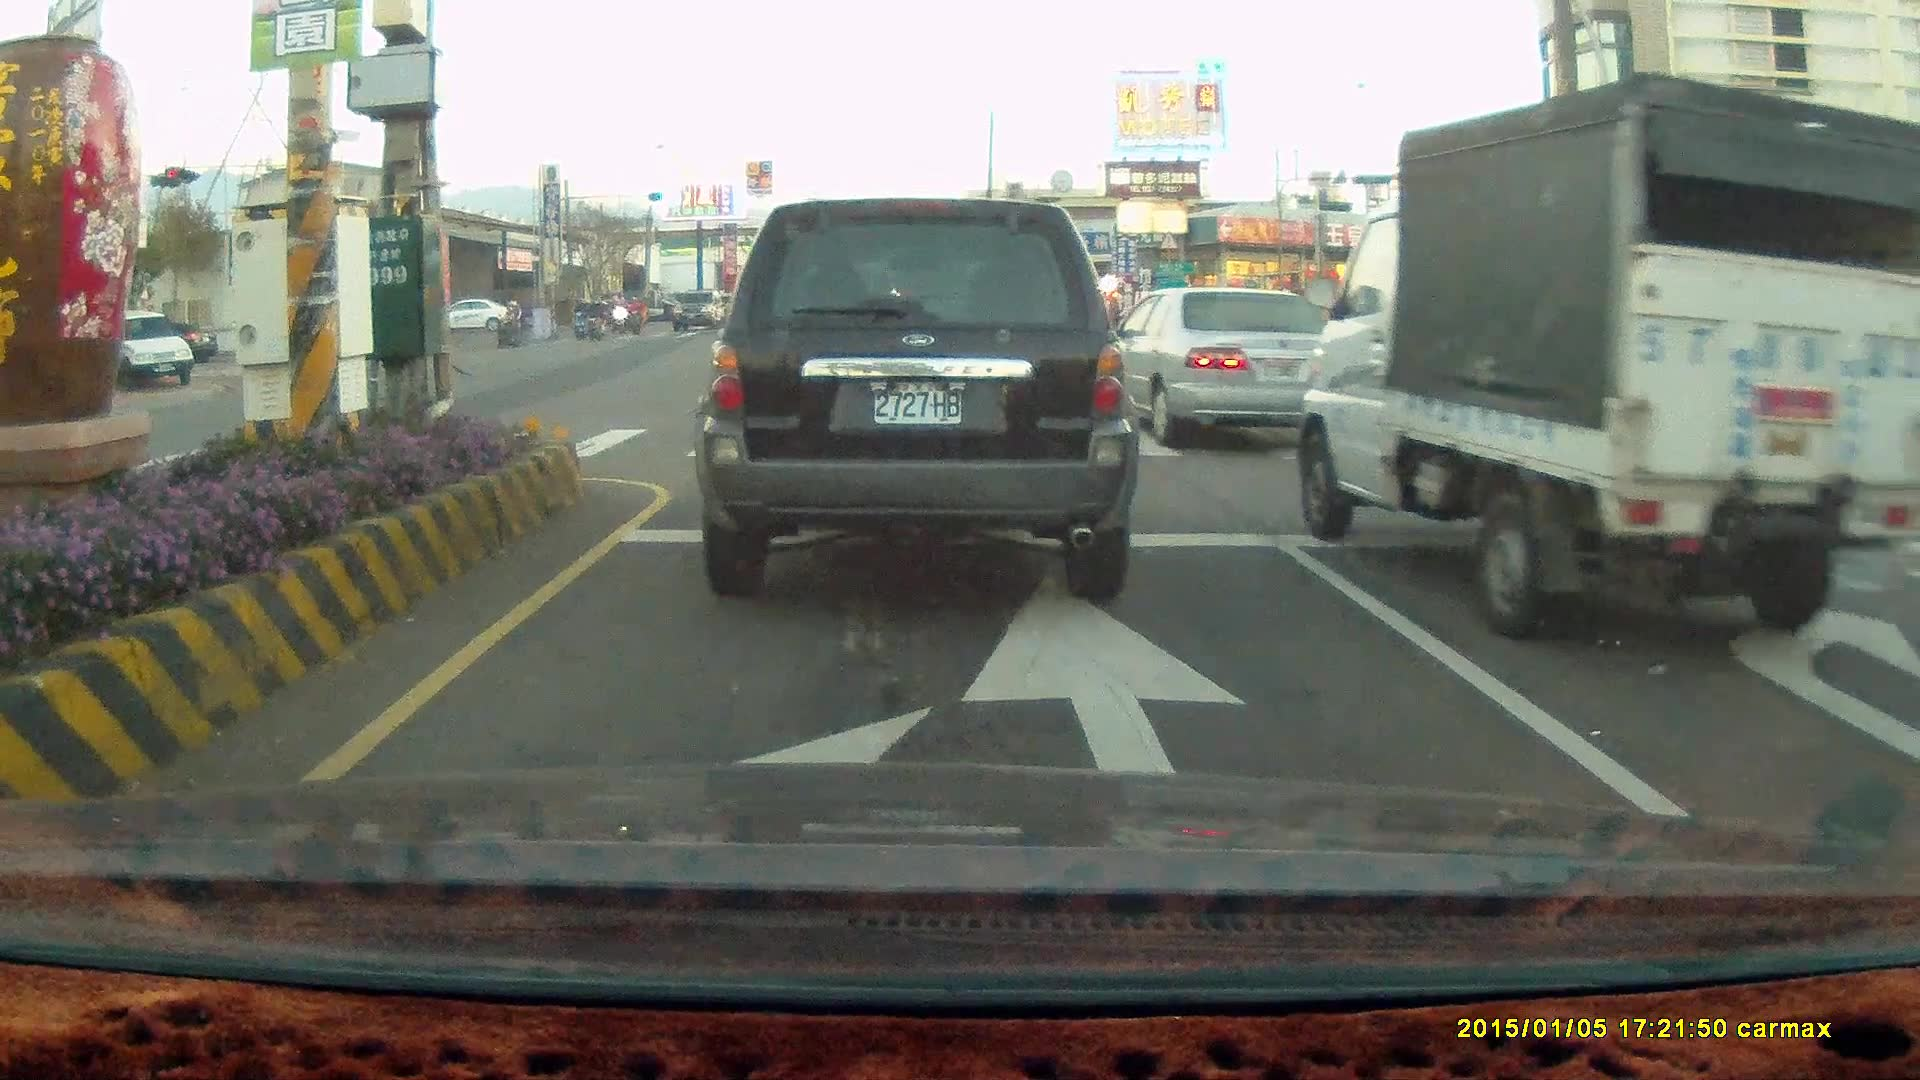rider: (494, 297, 527, 345), (581, 292, 608, 344), (570, 292, 592, 341), (625, 293, 646, 336)
vehicle: (1298, 69, 1920, 647), (689, 195, 1139, 602), (1098, 281, 1367, 447), (1100, 286, 1358, 454), (1697, 285, 1854, 372), (96, 311, 197, 391), (448, 299, 510, 336)
